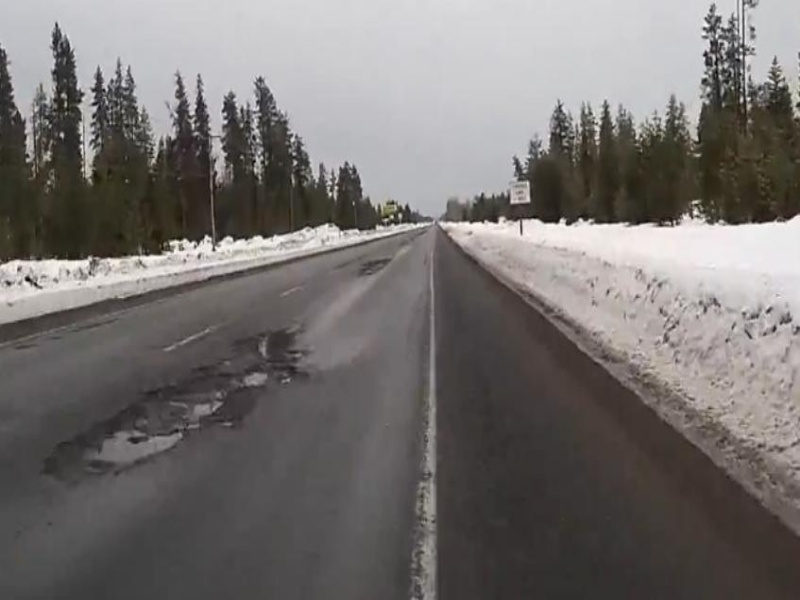pothole: (54, 418, 187, 485), (220, 363, 304, 389)
